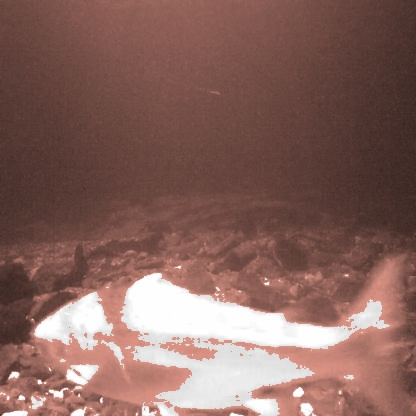salmon: (28, 249, 416, 416)
